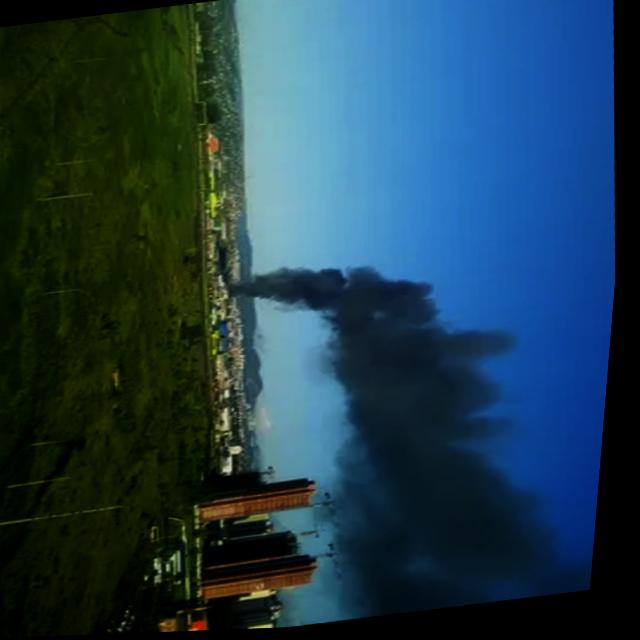no_helmet: (217, 246, 480, 498)
